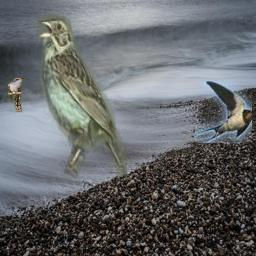Cuckoo: (8, 78, 25, 112)
Sparrow: (37, 8, 127, 184)
Swallow: (195, 80, 252, 143)
